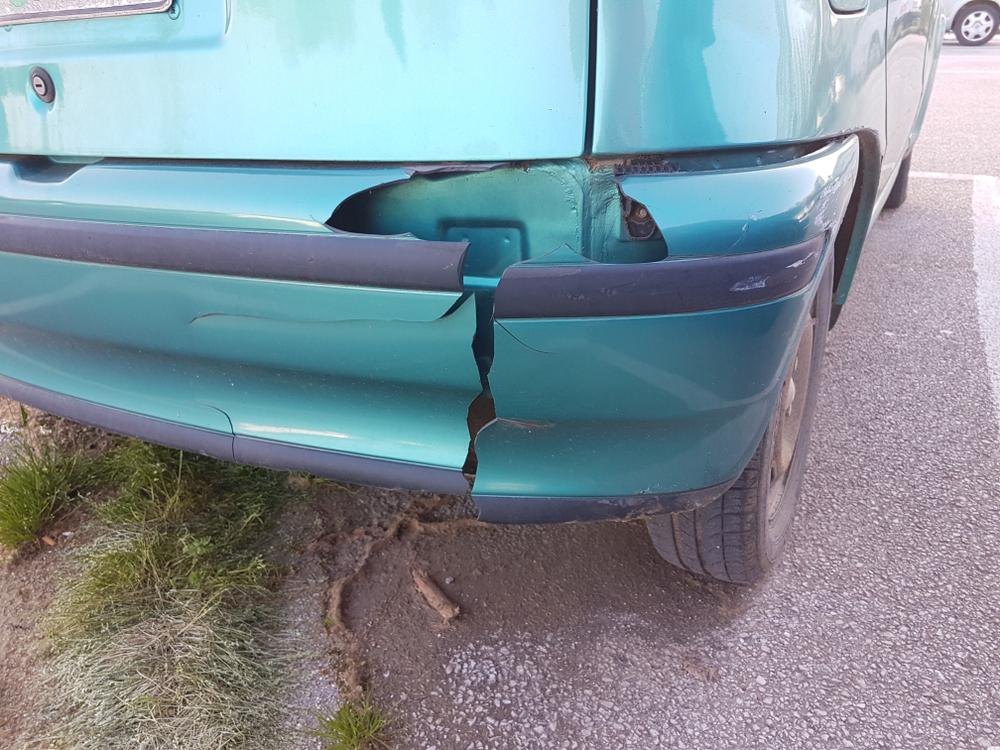crack: (187, 163, 672, 519), (199, 403, 236, 463)
